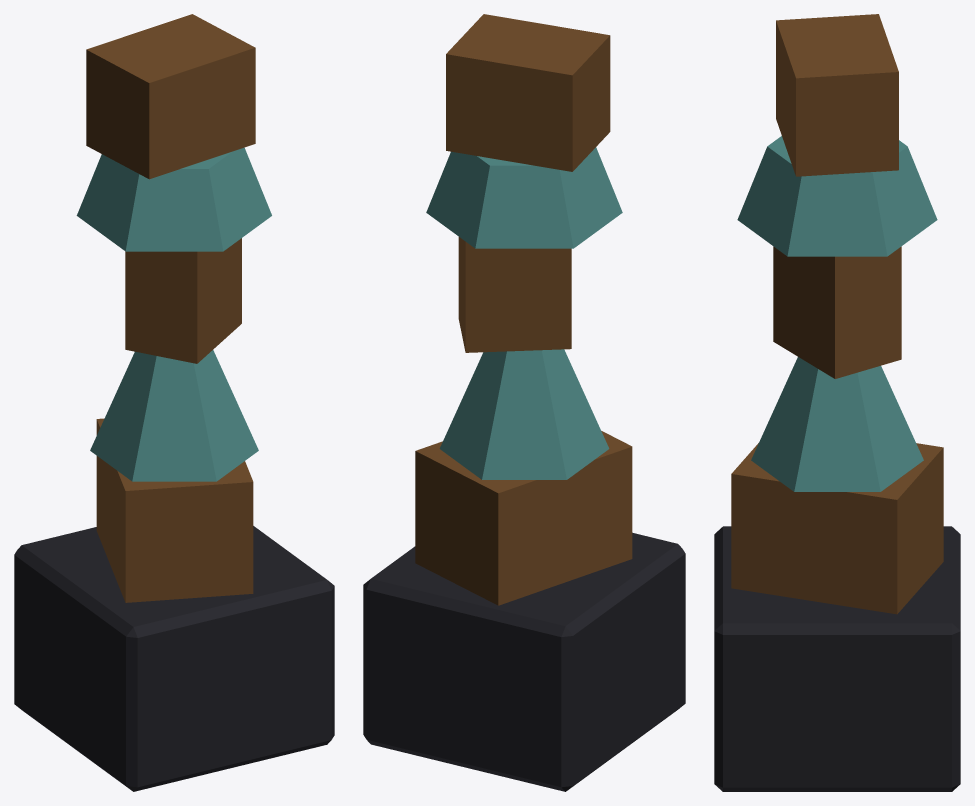
File: sculpture-27.glb
3 views of the same model, side by side, from view 1: azimuth 30°, elevation 25°; view 2: azimuth 150°, elevation 25°; view 3: azimuth 270°, elevation 25° (orthographic). The views are drawn at different scales.
Visible parts, largest first — view 1: sculpture_27; view 2: sculpture_27; view 3: sculpture_27.
Part boxes in pixels (box(x1,y1,x2,y2)): sculpture_27: box(14, 14, 334, 791); sculpture_27: box(363, 14, 685, 791); sculpture_27: box(714, 14, 960, 791).
Bounding box in the file's own units: 0.1681 × 0.5233 × 0.1681.
